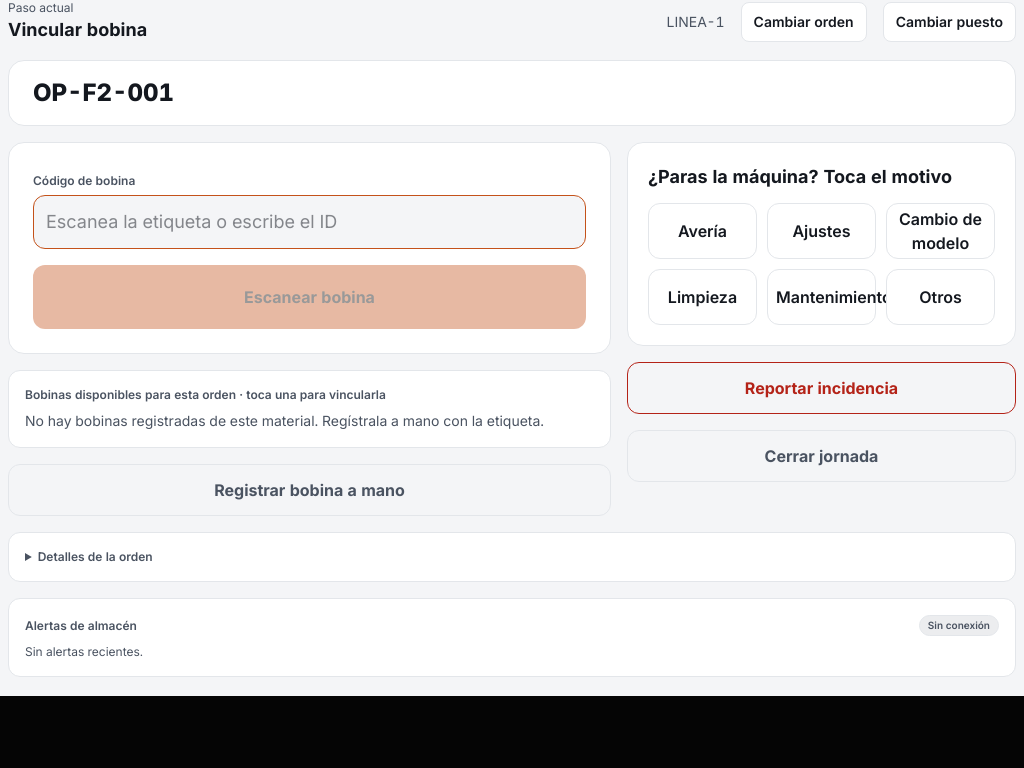
Test: Fase 2 pulido: puesto -> cola de ordenes -> panel › el boton cambiar orden devuelve a la cola desde el panel
The width and height of the screenshot is (1024, 768).
Expected: the text "Vincular bobina" is shown, [8,16,147,44]
Step 1. Click the button "Cambiar orden" → (804, 22), box [741,2,867,42]
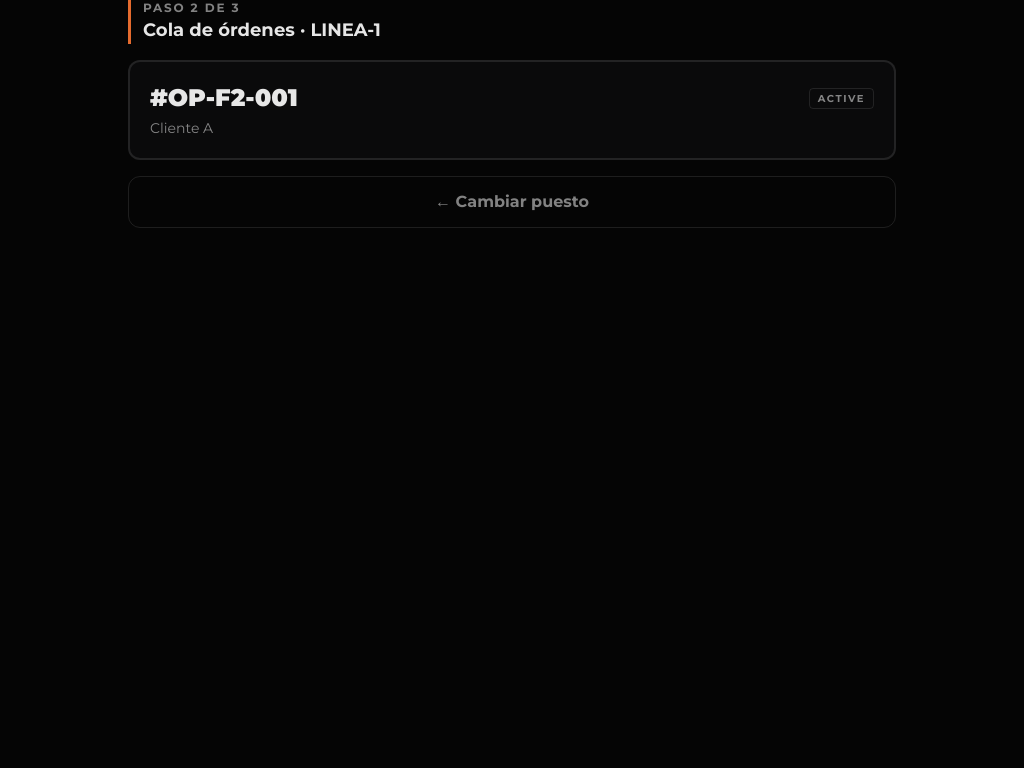
Now the text "Cola de órdenes · LINEA-1" is shown, box [143,19,381,41]
Now the text "#OP-F2-001" is shown, box [150,82,298,114]
Now the text "Vincular bobina" is gone
